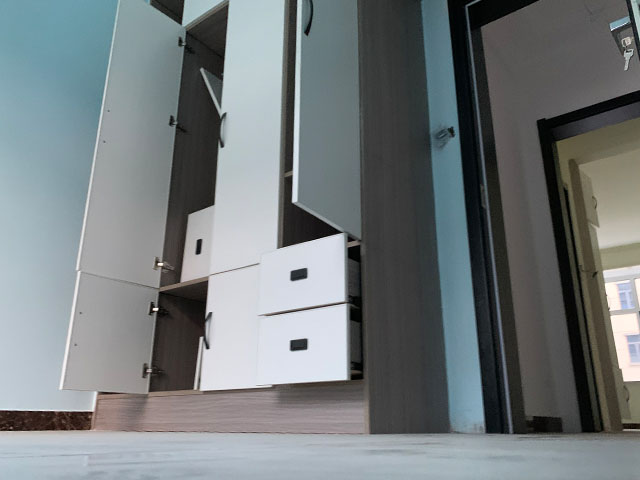cabinet: (58, 121, 429, 433)
